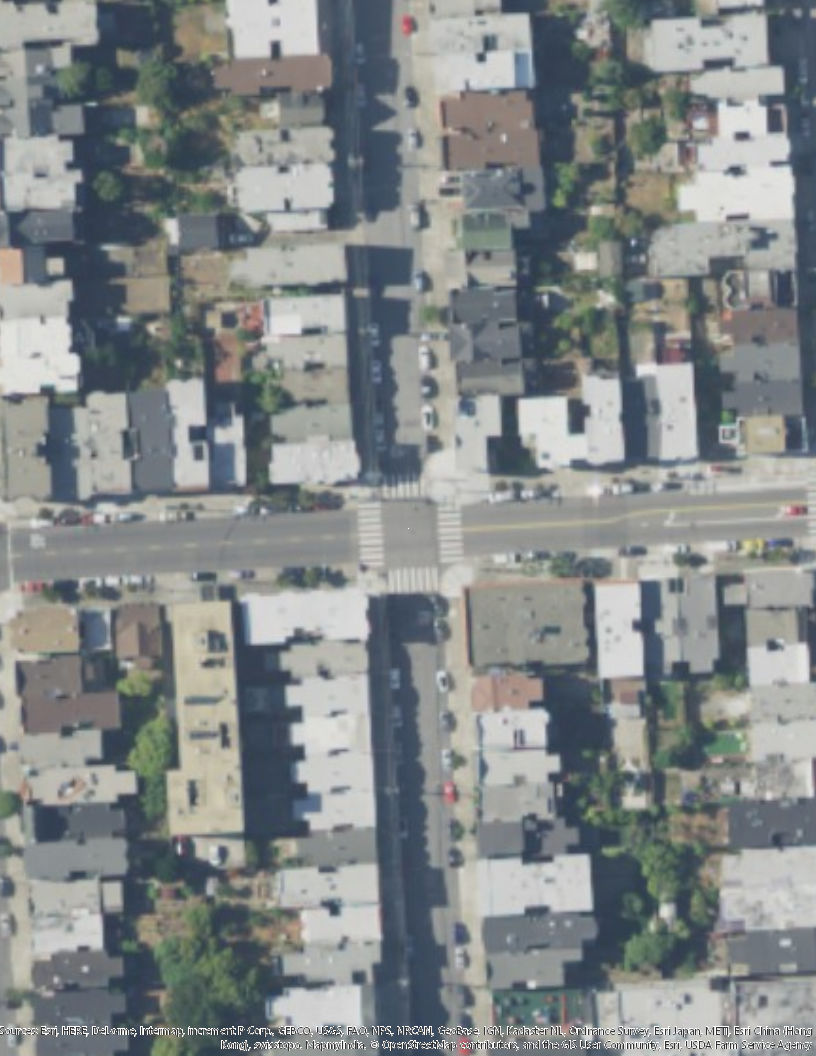zebracross: (356, 499, 384, 567), (436, 499, 466, 562), (387, 565, 438, 595), (381, 474, 423, 497)
